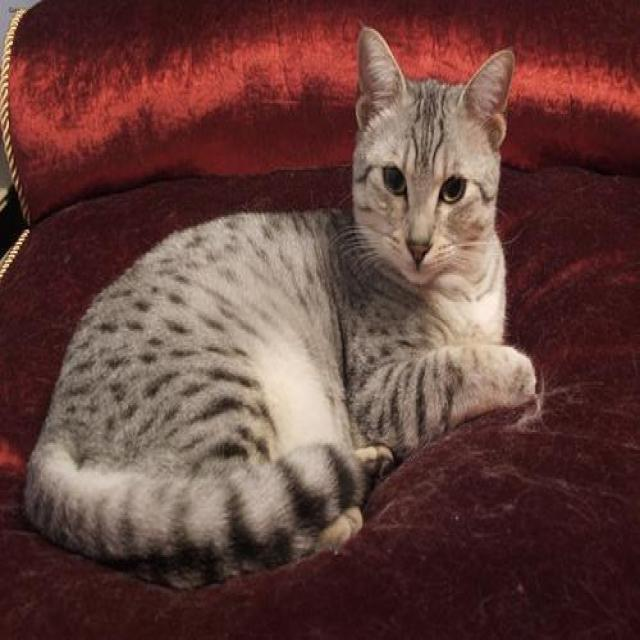cat: (21, 23, 536, 590)
